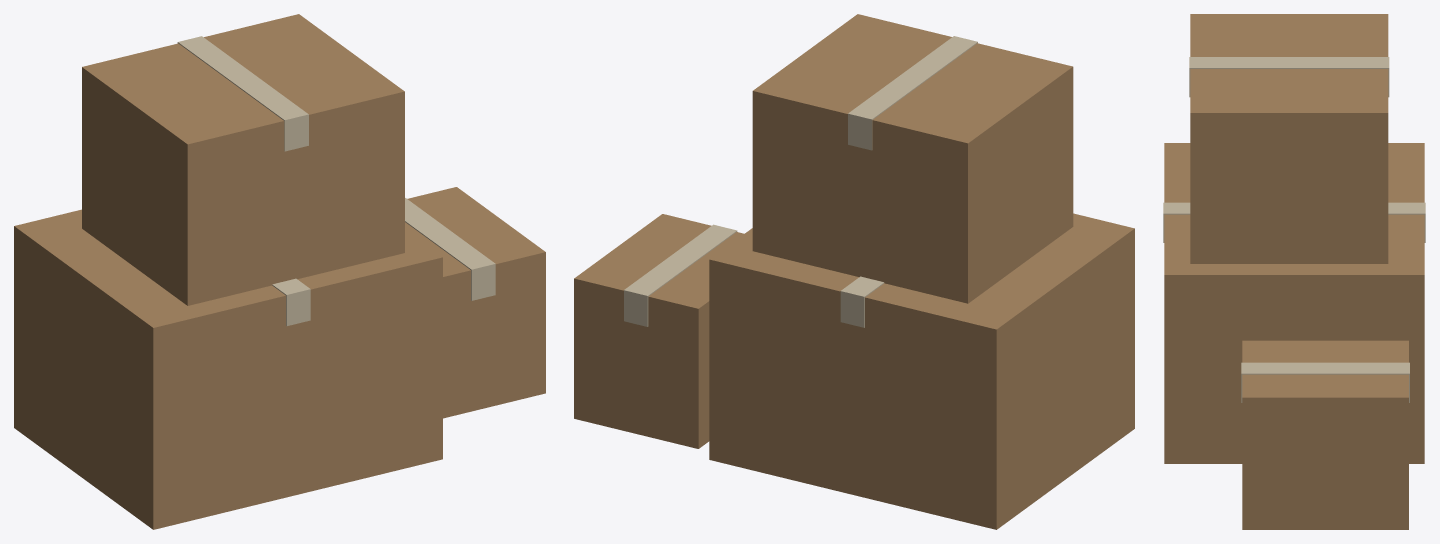
File: cardboard_boxes.glb
3 views of the same model, side by side, from view 1: azimuth 30°, elevation 25°; view 2: azimuth 150°, elevation 25°; view 3: azimuth 270°, elevation 25° (orthographic). The views are drawn at different scales.
Parts seen in each view (by area): view 1: cardboard_boxes; view 2: cardboard_boxes; view 3: cardboard_boxes.
Boxes of the visible parts, <box> form: cardboard_boxes: <box>14,14,545,529</box>; cardboard_boxes: <box>574,14,1134,529</box>; cardboard_boxes: <box>1163,14,1425,529</box>.
Size of the model in its own units: 0.9 by 0.722 by 0.504.
Materials: 1 (1 with a texture image).
